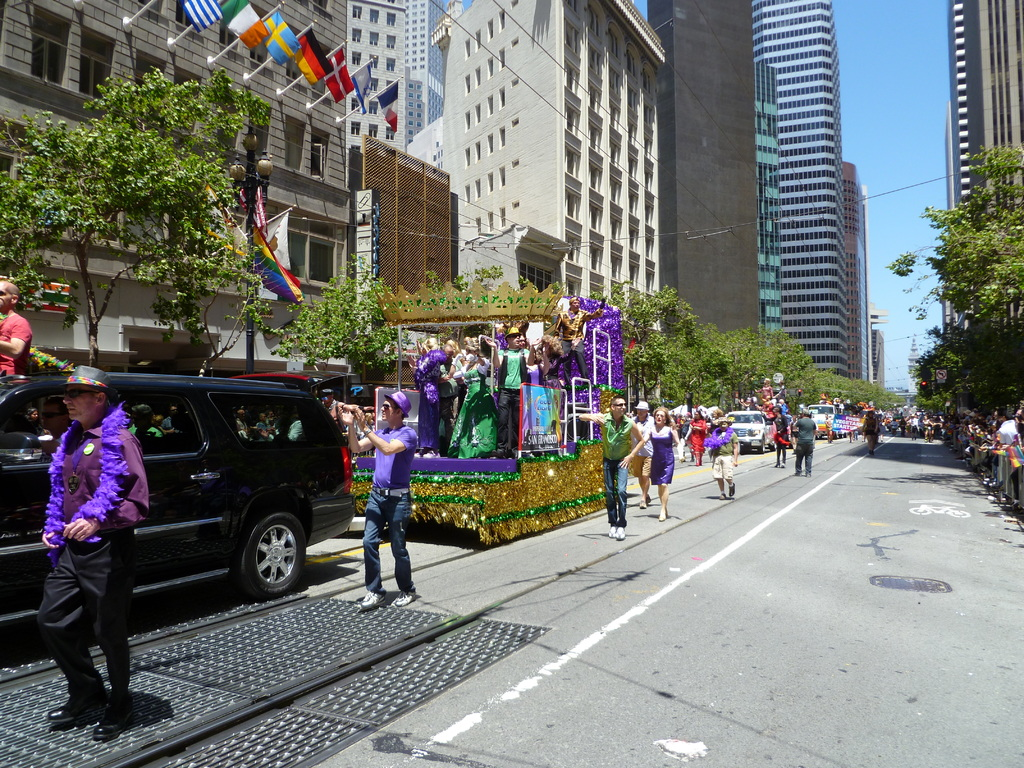Car: (0, 364, 355, 649)
